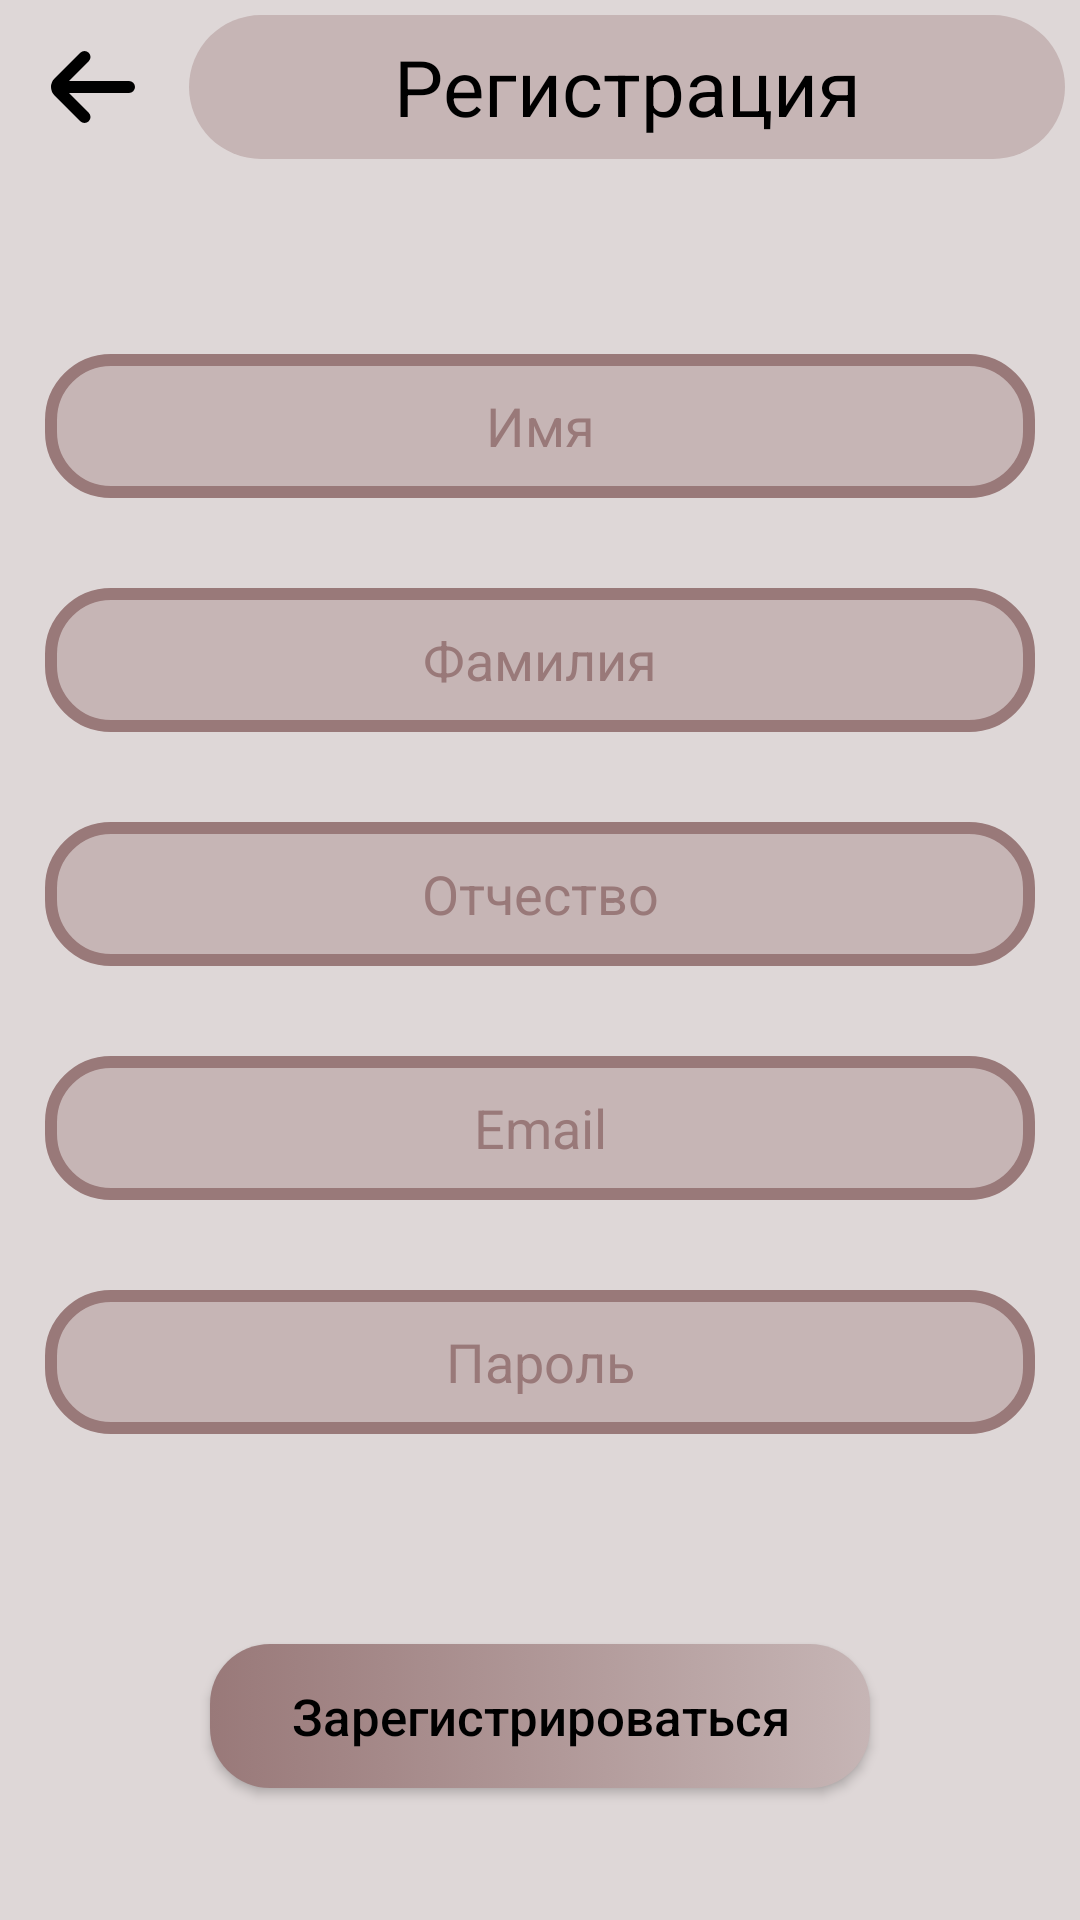

Where to tap for icons on this 1080px x 1920px app screen, as (x,y):
back: (93,87)
